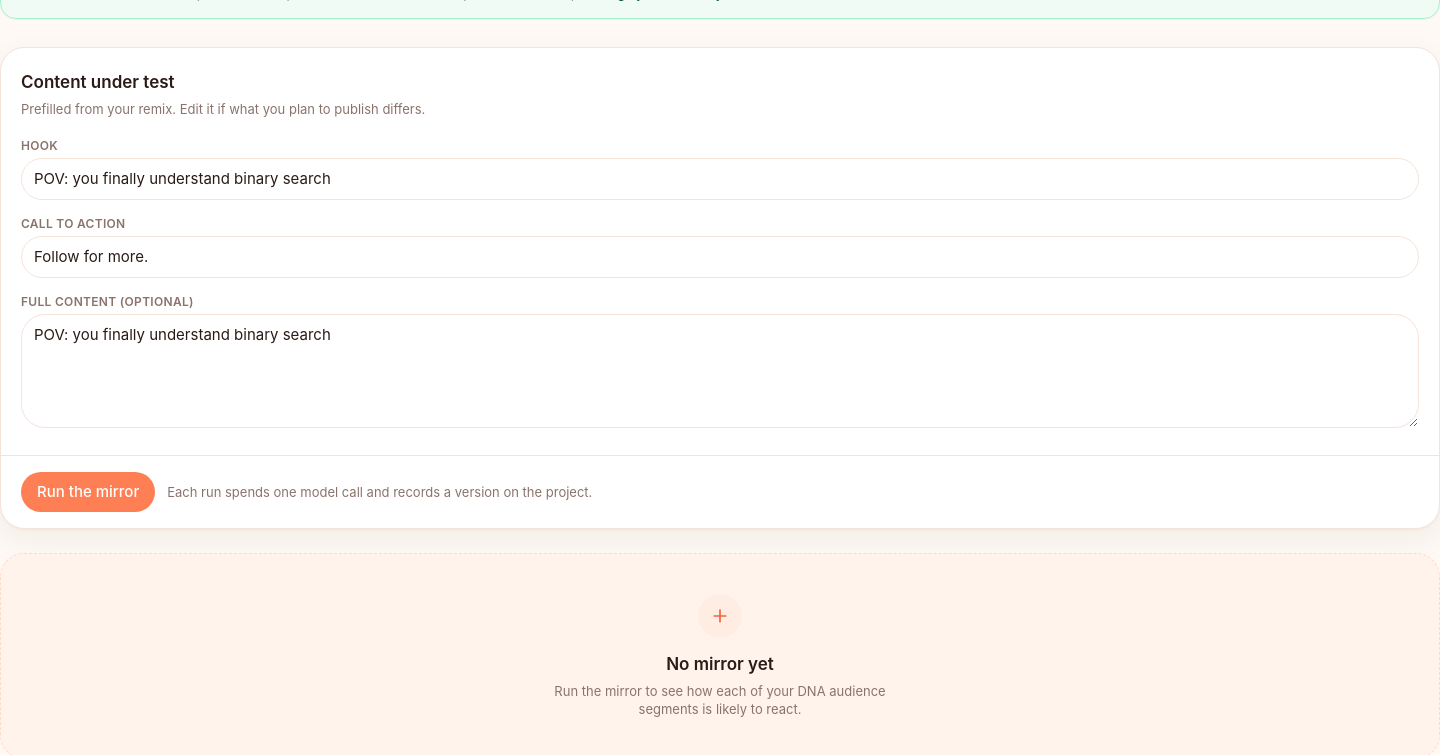
Test: AudiencePage › shows a segment card per prediction with a High/Medium/Low badge
(page scrolled)
Click the button "Run the mirror".
click(88, 492)  # box [21,472,155,512]
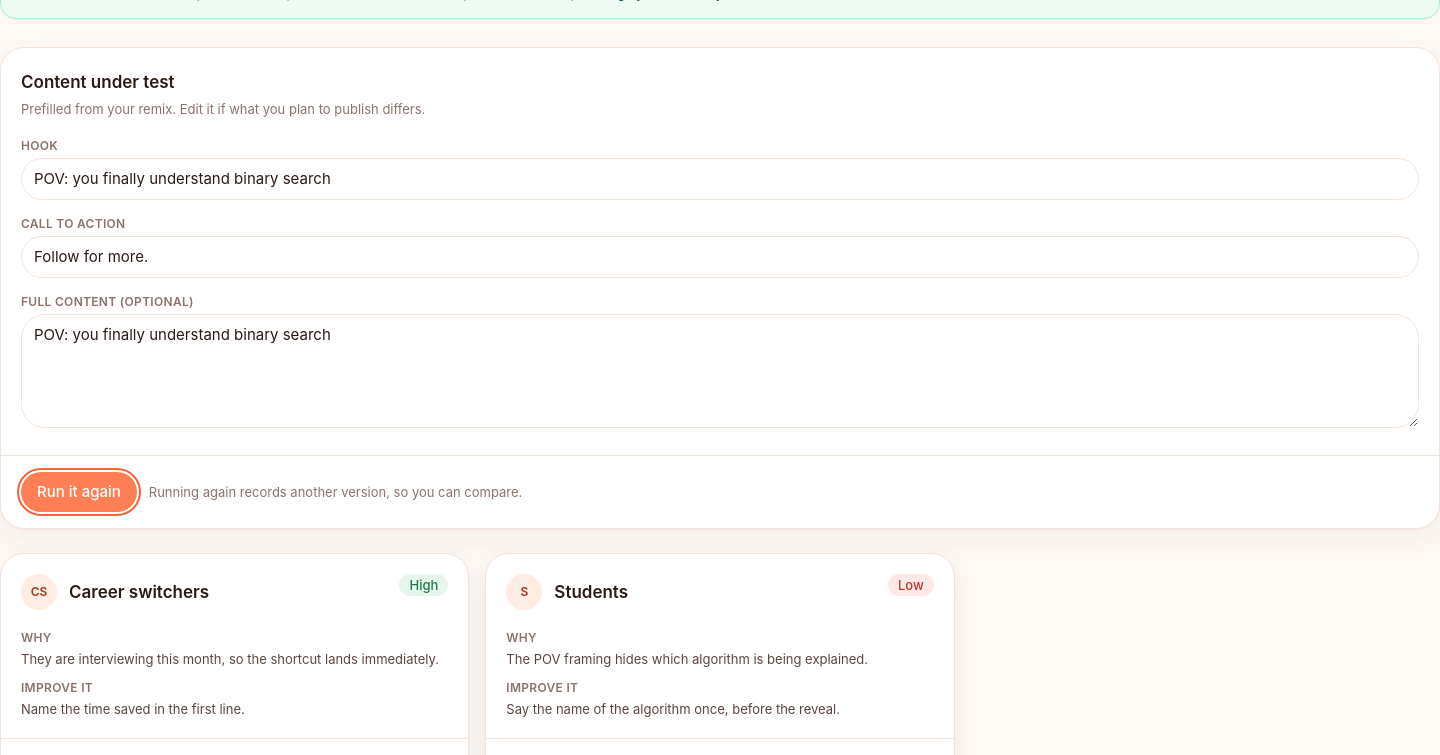
Result: the text "Career switchers" is shown at [69,578,209,606]
Result: the text "Students" is shown at [554,578,628,606]
Result: the number of elements named "Predicted reaction:" is 2 at [400,574,448,596]; [888,574,934,596]
